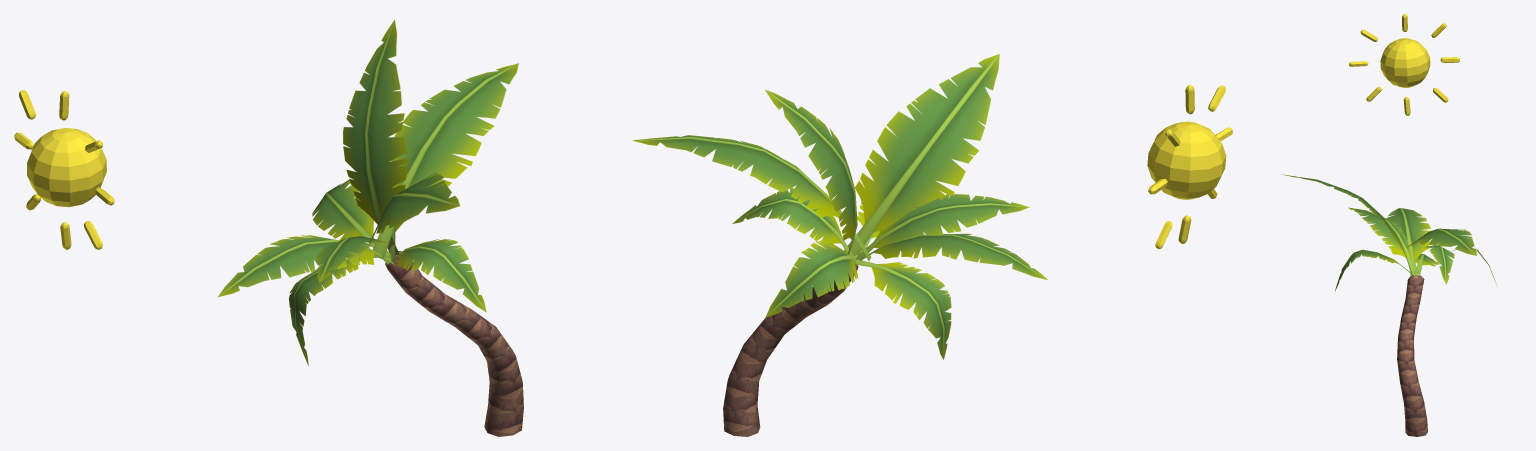
The model's file is SunTree.glb.
The picture shows the model from 3 angles, left to right: view 1: azimuth 30°, elevation 25°; view 2: azimuth 150°, elevation 25°; view 3: azimuth 270°, elevation 25°; orthographic projection. The views are drawn at different scales.
Parts seen in each view (by area): view 1: PalmTree_2, group1991343071; view 2: PalmTree_2, group1991343071; view 3: PalmTree_2, group1991343071.
Boxes of the visible parts, bbox=[...] form: PalmTree_2: bbox=[218, 19, 523, 436]; group1991343071: bbox=[27, 128, 106, 207]; PalmTree_2: bbox=[632, 54, 1048, 436]; group1991343071: bbox=[1147, 121, 1226, 199]; PalmTree_2: bbox=[1281, 174, 1497, 436]; group1991343071: bbox=[1380, 38, 1430, 87].
Bounding box in the file's own units: 7.9 × 5.88 × 4.91.
3 materials, 2 textured.
